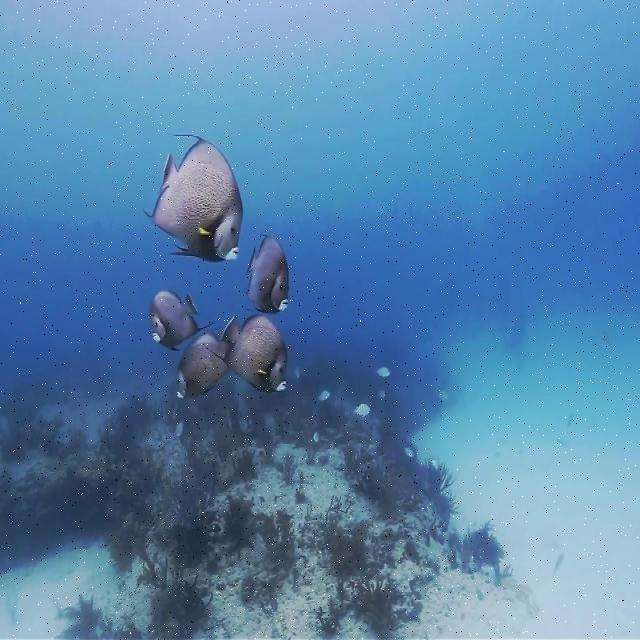fish: (137, 131, 245, 265), (220, 310, 289, 396), (149, 287, 216, 354), (175, 331, 234, 402), (245, 231, 291, 319)
